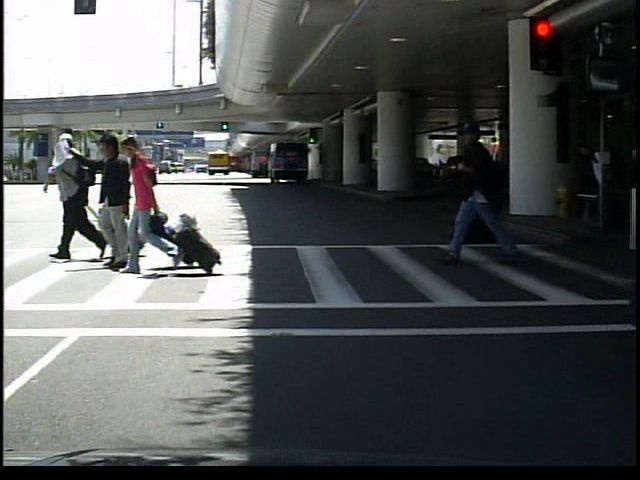person: (444, 113, 521, 265)
